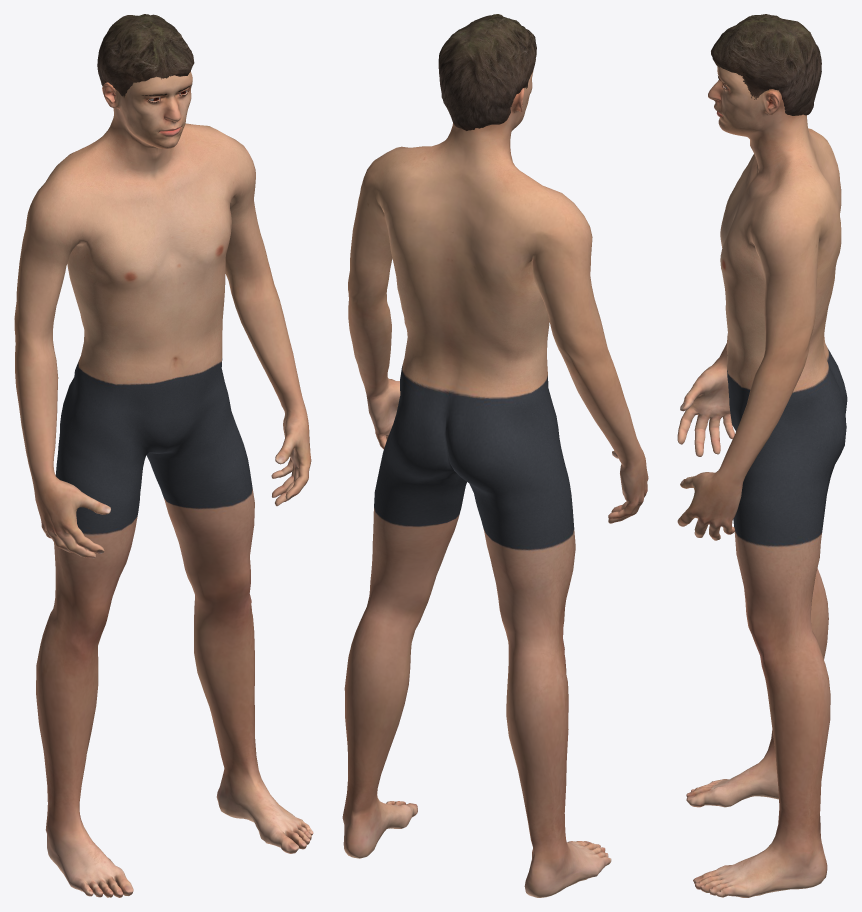
Rendered from male.glb.
3 views of the same model, side by side, from view 1: azimuth 30°, elevation 25°; view 2: azimuth 150°, elevation 25°; view 3: azimuth 270°, elevation 25° (orthographic). The views are drawn at different scales.
Visible parts, largest first — view 1: Body, Hair; view 2: Body, Hair; view 3: Body, Hair.
Part boxes in pixels (box(x1,y1,x2,y2)): Body: box(14, 71, 313, 897); Hair: box(97, 14, 194, 97); Body: box(342, 70, 648, 897); Hair: box(438, 14, 536, 130); Body: box(677, 66, 847, 897); Hair: box(711, 14, 821, 115).
Bounding box in the file's own units: 0.6022 × 1.76 × 0.3332.
5 materials, 5 textured.
